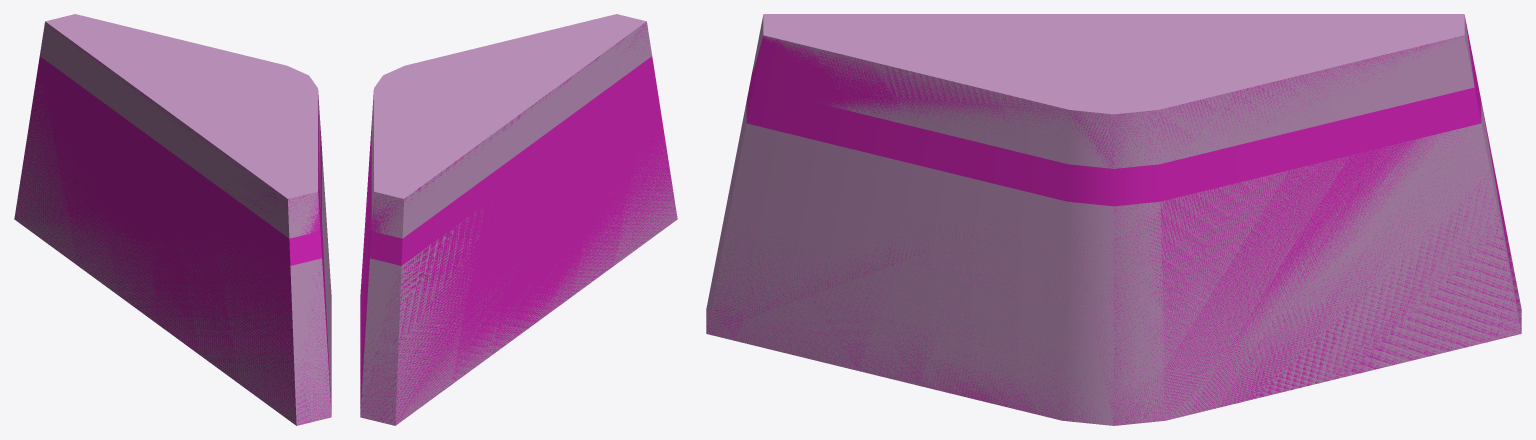
The model's file is building3.fbx.
The picture shows the model from 3 angles, left to right: view 1: azimuth 30°, elevation 25°; view 2: azimuth 150°, elevation 25°; view 3: azimuth 270°, elevation 25°; orthographic projection. The views are drawn at different scales.
Parts seen in each view (by area): view 1: building3_MESH, building3_COL; view 2: building3_MESH, building3_COL; view 3: building3_MESH, building3_COL.
Boxes of the visible parts, bbox=[...] form: building3_MESH: bbox=[14, 14, 331, 425]; building3_COL: bbox=[14, 22, 331, 425]; building3_MESH: bbox=[360, 14, 677, 425]; building3_COL: bbox=[360, 22, 677, 425]; building3_MESH: bbox=[706, 14, 1521, 425]; building3_COL: bbox=[706, 15, 1521, 425].
Size of the model in its own units: 575 by 1695 by 695.
